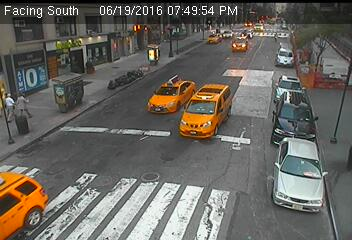neg: (82, 57, 96, 76), (133, 32, 144, 48)
pos: (12, 88, 34, 116)
